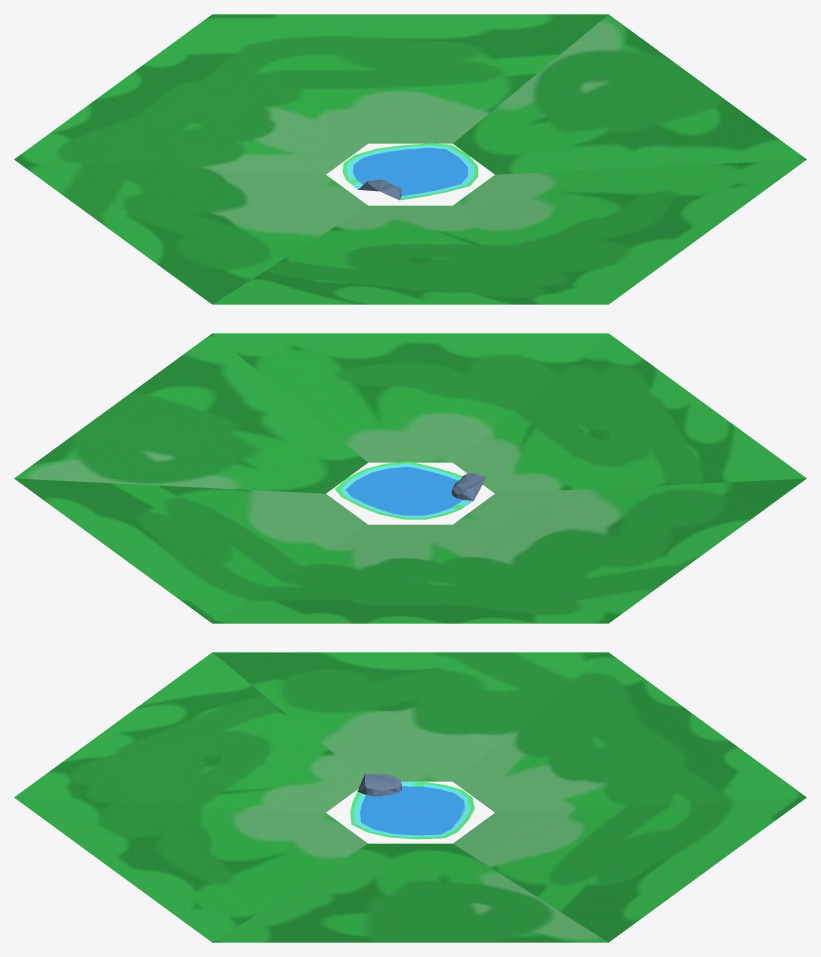
Rendered from Ice.obj.
3 renders of one model, top to bottom at view 1: azimuth 30°, elevation 25°; view 2: azimuth 150°, elevation 25°; view 3: azimuth 270°, elevation 25°, orthographic.
Visible parts, largest first — view 1: Ice_Plane; view 2: Ice_Plane; view 3: Ice_Plane.
Boxes of the visible parts, <box> form: Ice_Plane: <box>14,14,806,304</box>; Ice_Plane: <box>14,333,806,623</box>; Ice_Plane: <box>14,652,806,942</box>.
Bounding box in the file's own units: 932 × 22.75 × 1077.
